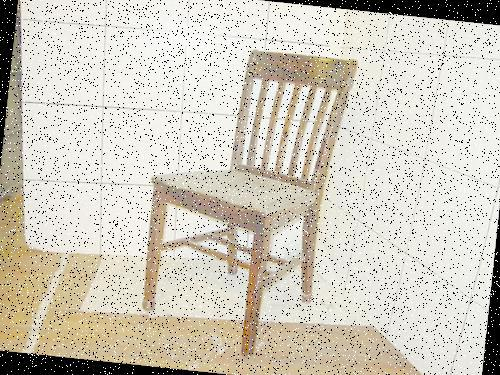Silla: (140, 38, 360, 358)
